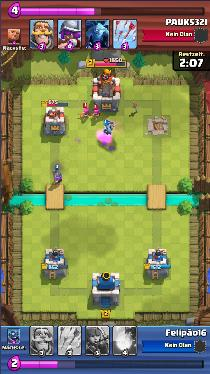ally_minion: (103, 123, 113, 134)
ally_musketeer: (50, 169, 63, 184)
enemy_archer: (80, 107, 90, 119), (92, 107, 101, 118)
